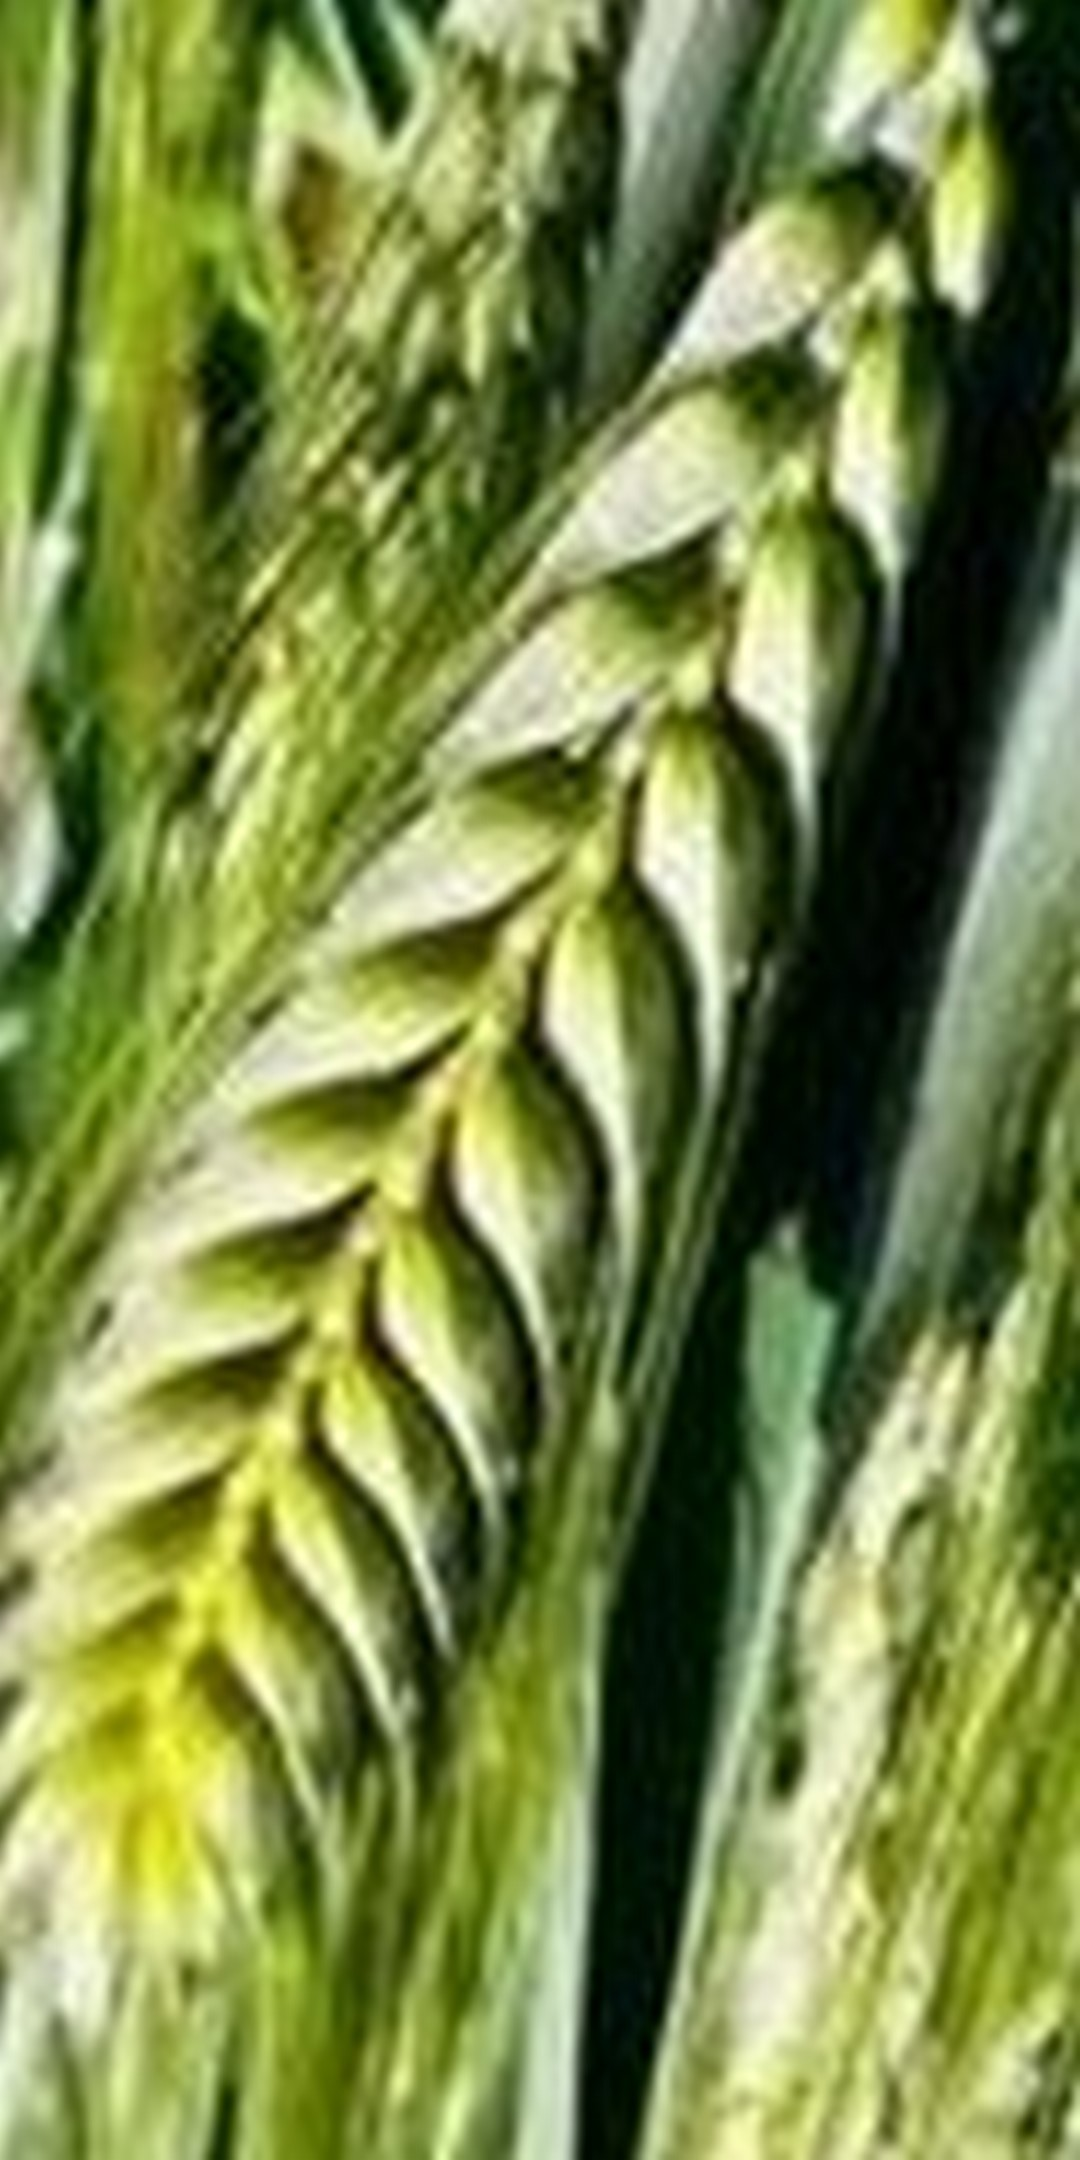Healthy Wheat: (63, 142, 985, 1869)
